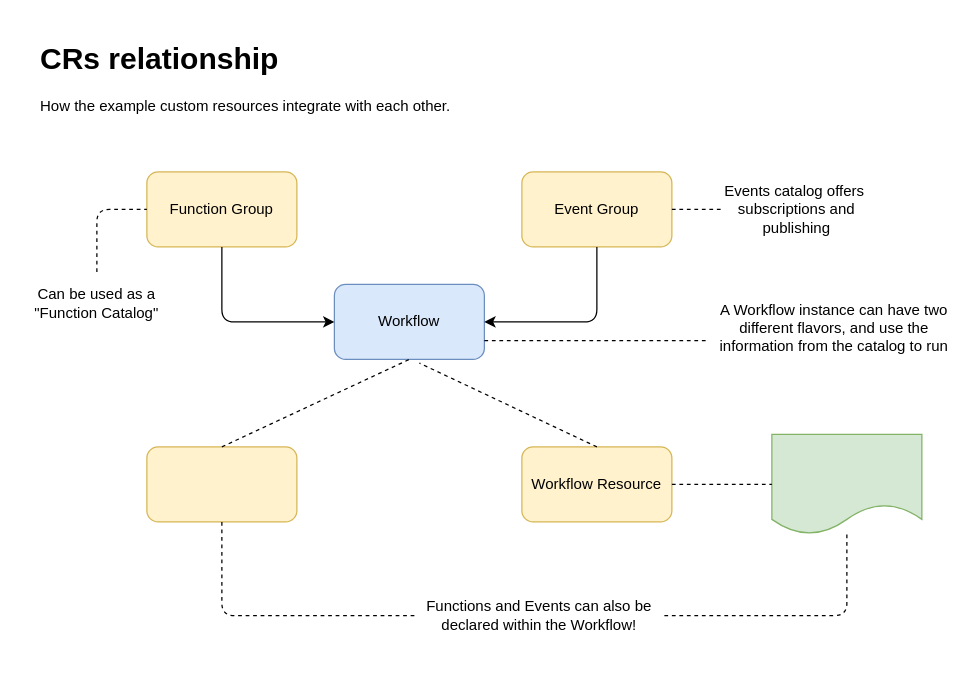
Some shapes in this 980 by 680 pixel diagram are drawn without their labels. The centre of each missing label's shape, as x and y in pixels:
Serverless Workflow external reference file (YAML/JSON): the point at 846,483
Workflow Definition: the point at 221,484
